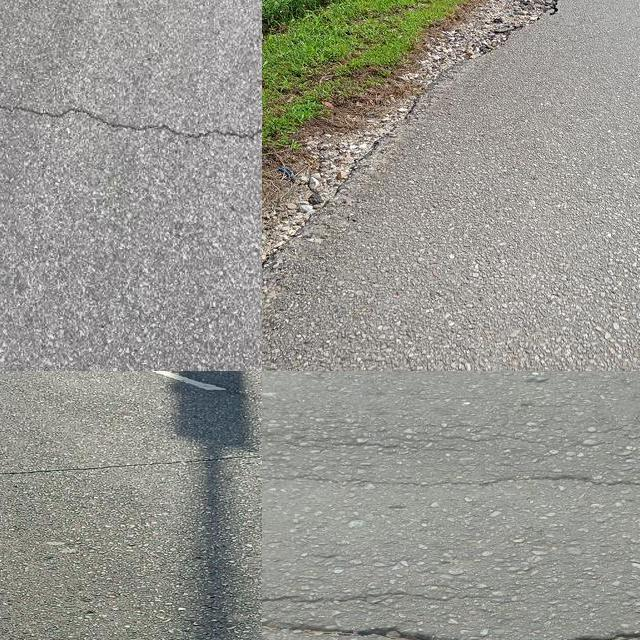Melintang: (0, 93, 262, 150), (262, 608, 640, 640), (0, 441, 262, 486)
Pinggir: (262, 0, 566, 304)
